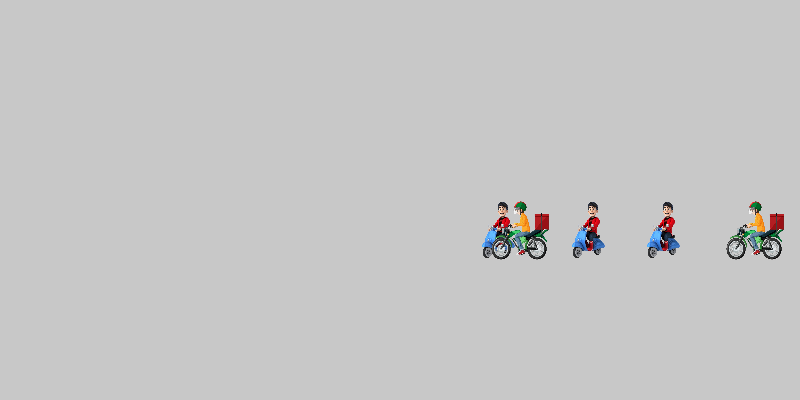helmet: (490, 200, 550, 260), (725, 200, 785, 260)
no_helmet: (470, 200, 530, 260), (560, 200, 620, 260), (635, 200, 695, 260)
